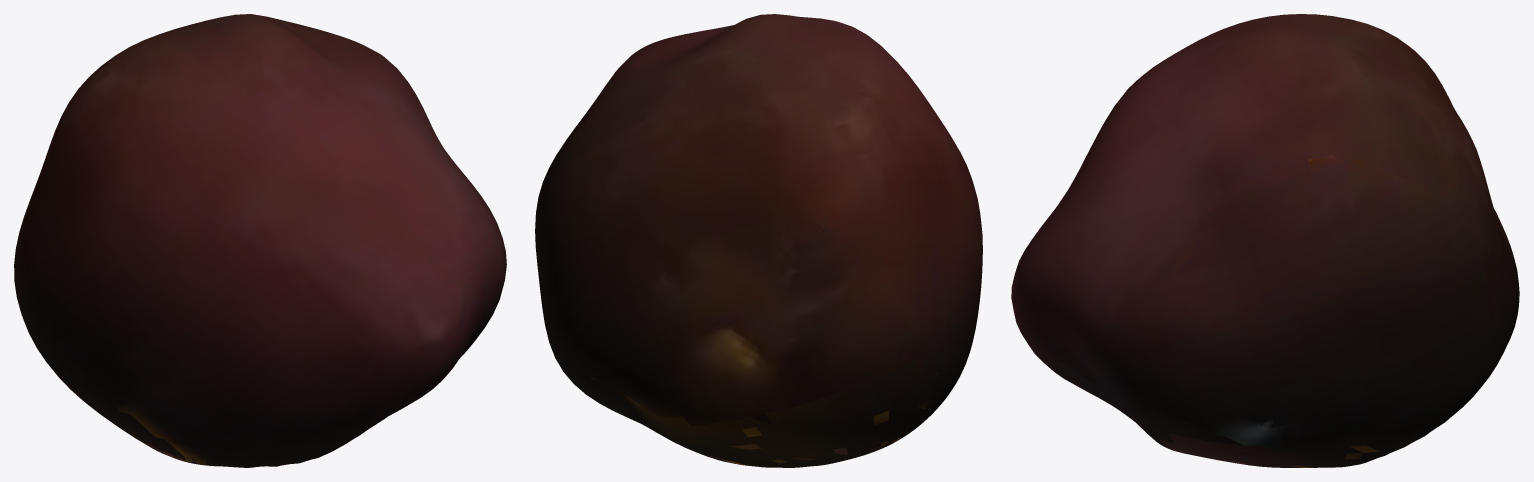
The model's file is fruit_3.glb.
The picture shows the model from 3 angles, left to right: view 1: azimuth 30°, elevation 25°; view 2: azimuth 150°, elevation 25°; view 3: azimuth 270°, elevation 25°; orthographic projection. The views are drawn at different scales.
Visible parts, largest first — view 1: w_fruit_3; view 2: w_fruit_3; view 3: w_fruit_3.
Boxes of the visible parts, bbox=[...] form: w_fruit_3: bbox=[14, 14, 506, 467]; w_fruit_3: bbox=[535, 14, 982, 467]; w_fruit_3: bbox=[1011, 14, 1519, 467].
Bounding box in the file's own units: 0.0686 × 0.068 × 0.0756.
Materials: 1 (1 with a texture image).
